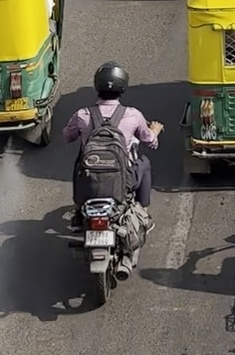BikeWithRider: (60, 57, 167, 307)
Helmet: (88, 57, 134, 102)
